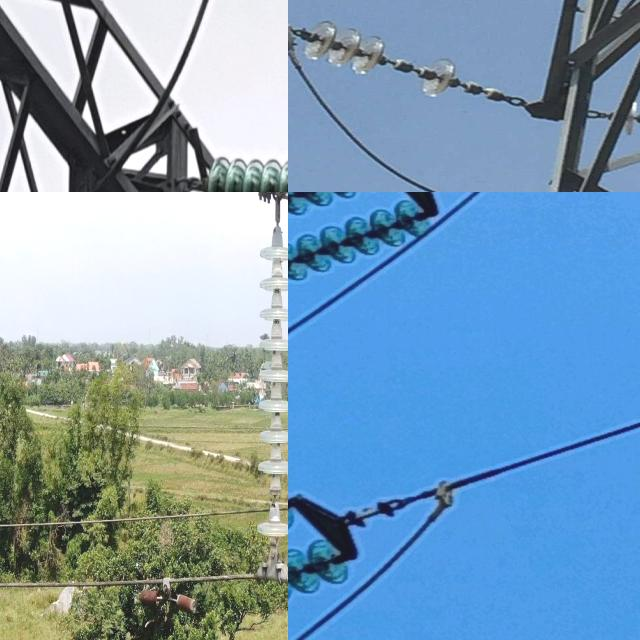杆塔: (485, 0, 640, 192)
正常绝缘子: (288, 0, 530, 127), (288, 192, 452, 290), (251, 193, 288, 576), (288, 532, 362, 599), (196, 143, 288, 192)
绝缘子破损: (406, 60, 431, 80), (473, 82, 498, 102), (269, 478, 282, 512), (455, 75, 476, 95), (384, 53, 404, 73)
